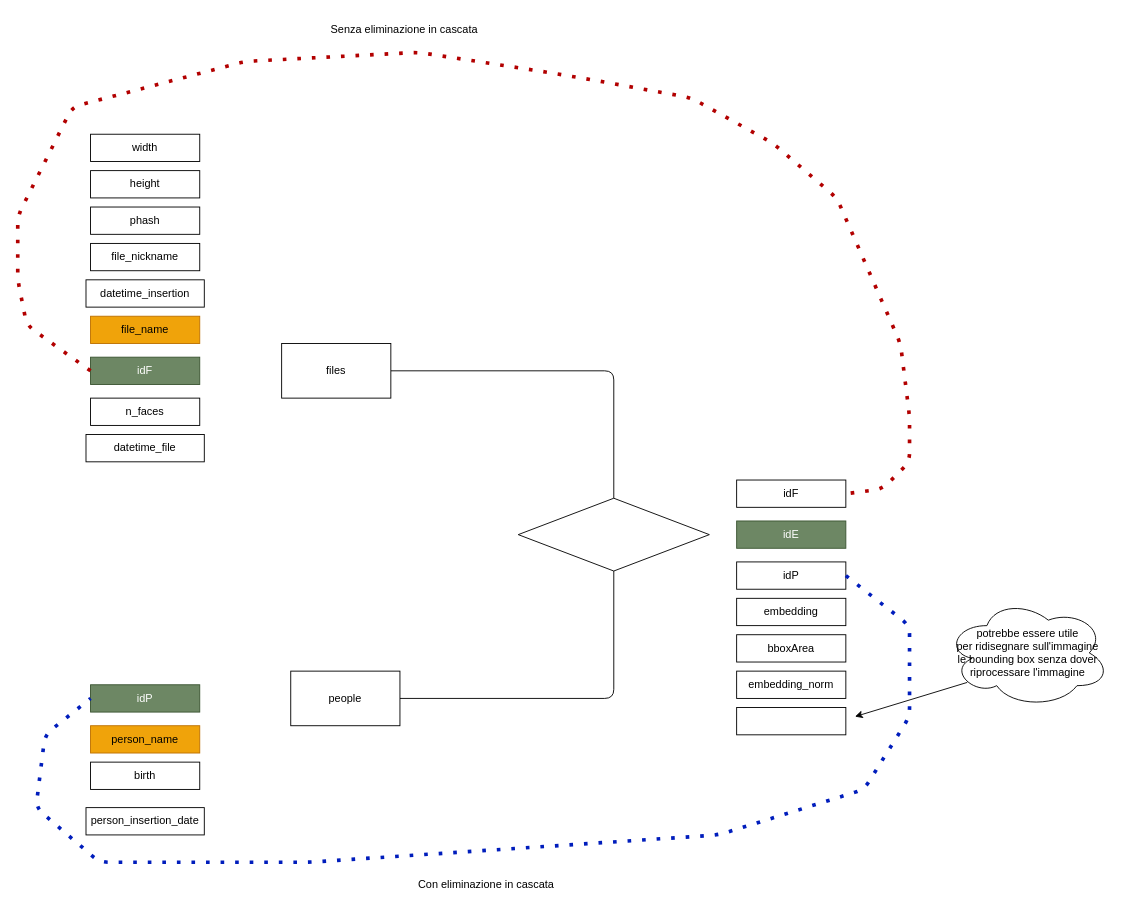
This 1126x914 diagram has some shape labels left out. The shapes that lost their labels are listed below. From the top down, each one's centre as x and y in pixels, then its label:
At (x=613, y=534): "people_embedding".
At (x=791, y=721): "bboxCoord".
